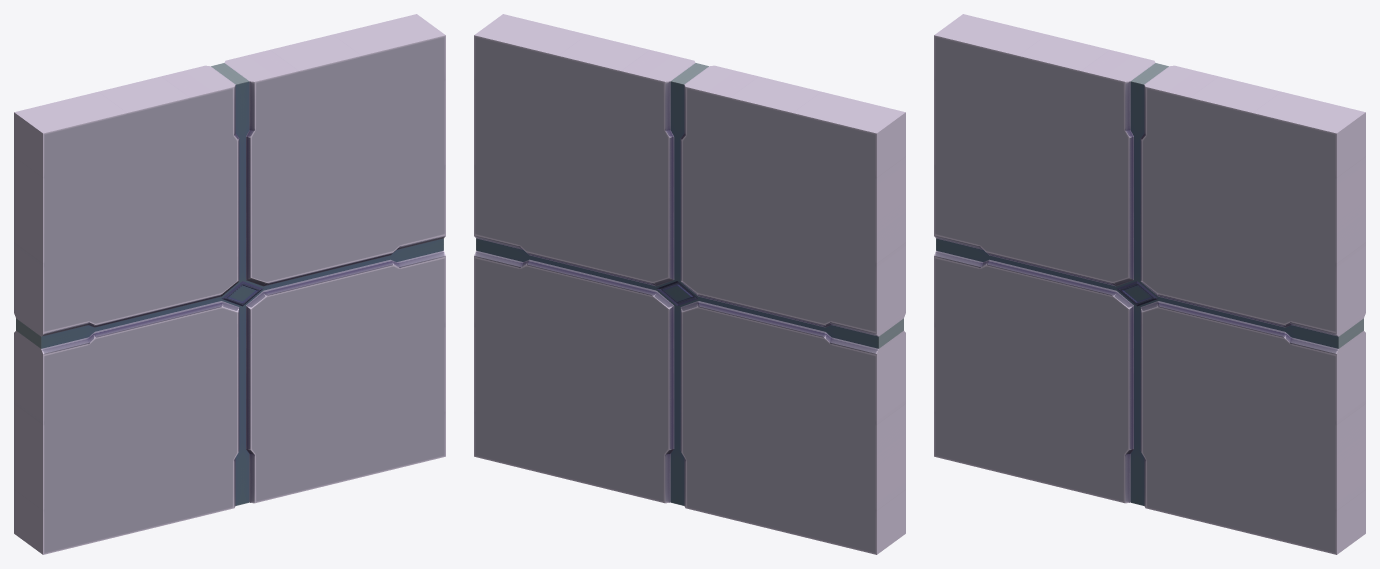
The model's file is celling3_low.fbx.
3 views of the same model, side by side, from view 1: azimuth 30°, elevation 25°; view 2: azimuth 150°, elevation 25°; view 3: azimuth 330°, elevation 25° (orthographic).
Visible parts, largest first — view 1: celling3_low; view 2: celling3_low; view 3: celling3_low.
Boxes of the visible parts, x1,y1,x2,y2 form: celling3_low: [14, 14, 445, 554]; celling3_low: [474, 14, 905, 554]; celling3_low: [934, 14, 1365, 554].
Size of the model in its own units: 150 by 150 by 18.74.
